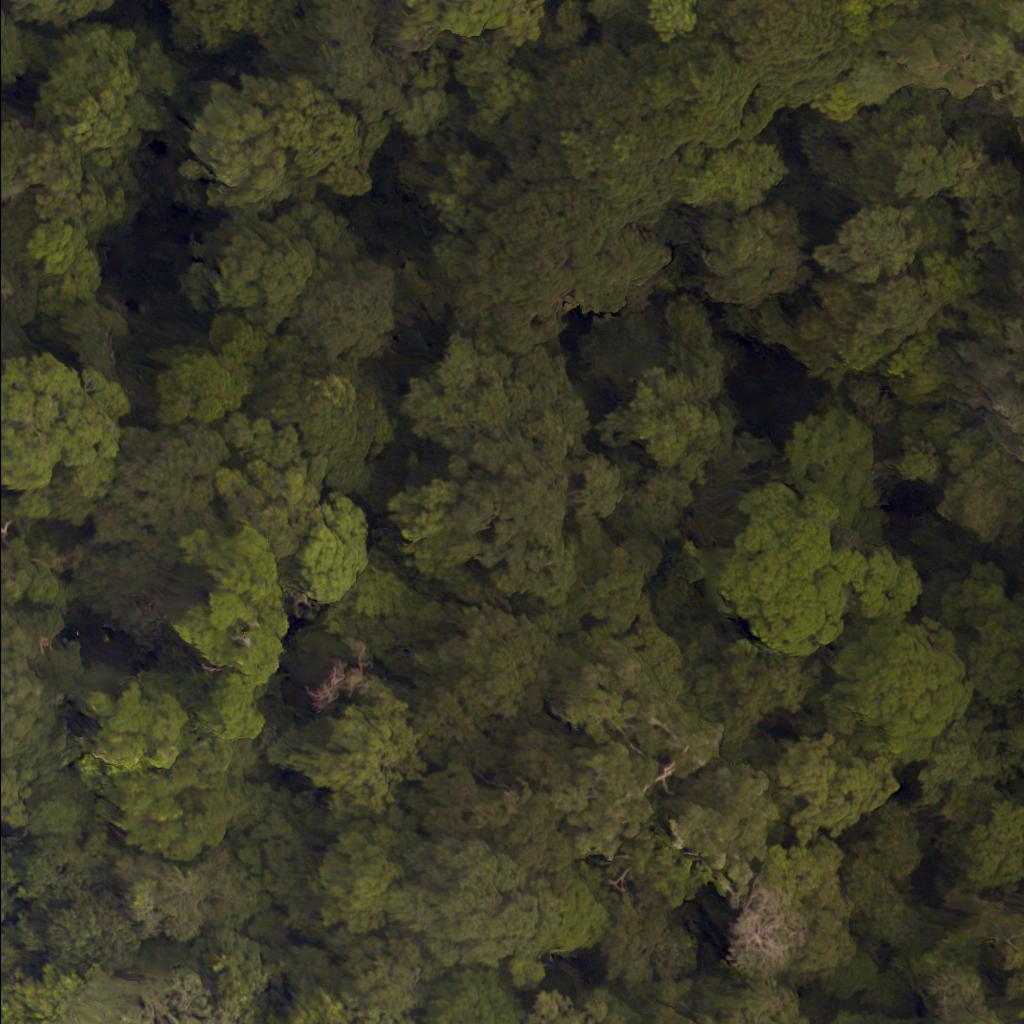crown: (436, 78, 680, 356), (180, 69, 397, 216), (171, 191, 365, 346), (851, 0, 1023, 162), (30, 17, 171, 172), (708, 0, 873, 113), (687, 194, 811, 314), (642, 44, 774, 153), (288, 258, 400, 376), (959, 320, 1023, 461), (676, 139, 786, 212), (789, 406, 881, 476), (164, 0, 286, 51), (829, 0, 901, 46), (642, 0, 703, 41), (0, 14, 28, 101), (1004, 235, 1023, 304)
